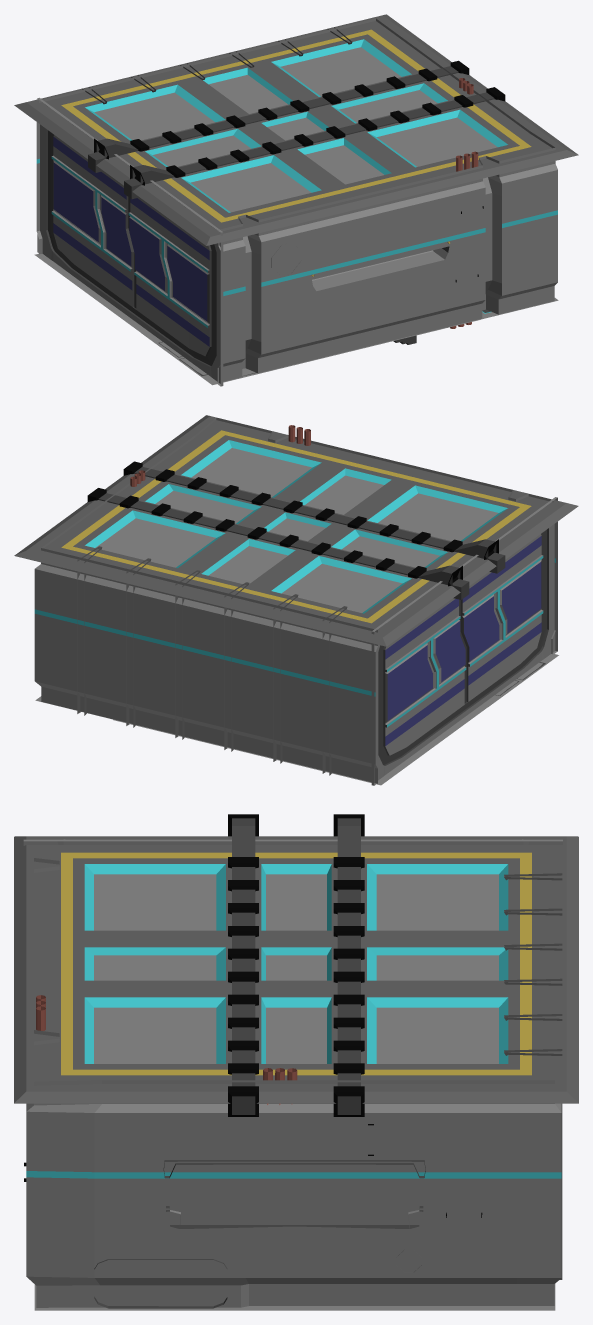
Rendered from Hangar.fbx.
The picture shows the model from 3 angles, top to bottom: view 1: azimuth 30°, elevation 25°; view 2: azimuth 150°, elevation 25°; view 3: azimuth 270°, elevation 25°; orthographic projection. The views are drawn at different scales.
Parts seen in each view (by area): view 1: DoorWall, Ceiling, Floor, WallPillar; view 2: DoorWall, Ceiling, WallPillar, Floor; view 3: Ceiling, DoorWall, Floor, WallPillar, ControlRoom.
Part boxes in pixels (box(x1,y1,x2,y2)): DoorWall: box(36, 18, 557, 386); Ceiling: box(14, 14, 578, 245); Floor: box(34, 253, 558, 385); WallPillar: box(82, 27, 352, 104); DoorWall: box(34, 417, 557, 785); Ceiling: box(14, 415, 578, 646); WallPillar: box(77, 546, 347, 775); Floor: box(35, 653, 558, 785); Ceiling: box(14, 814, 578, 1116); DoorWall: box(23, 839, 562, 1307); Floor: box(34, 1284, 555, 1310); WallPillar: box(504, 873, 562, 1279); ControlRoom: box(163, 1160, 425, 1228).
Size of the model in its own units: 3808 by 1763 by 3398.
